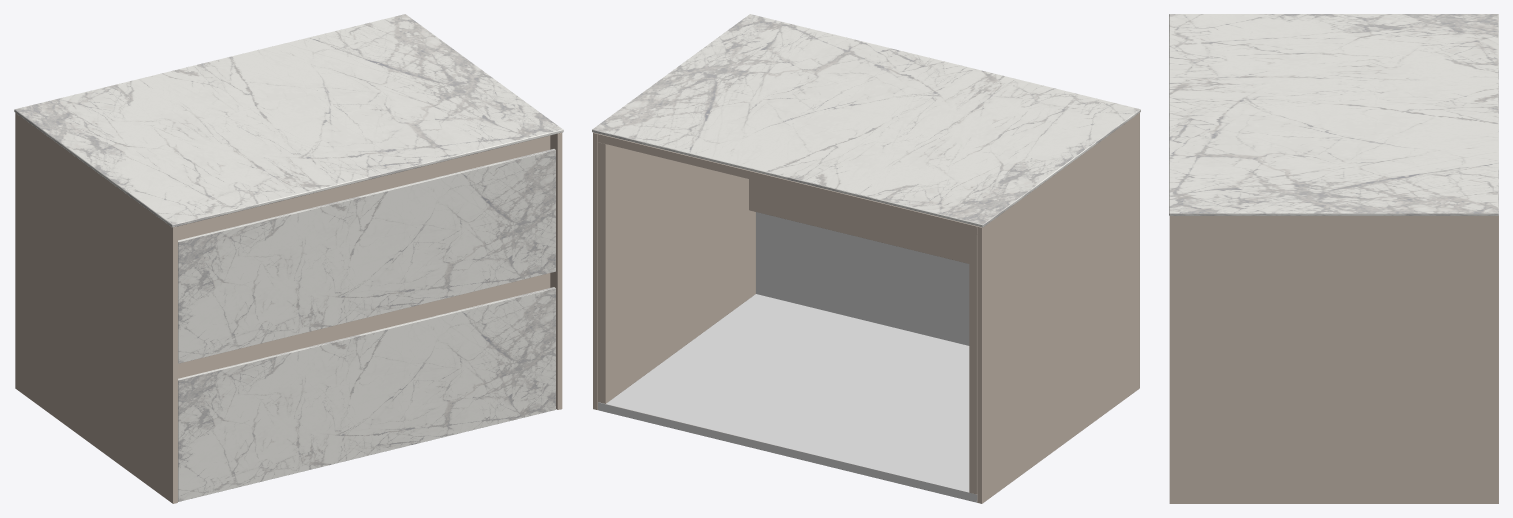
The picture shows the model from 3 angles, left to right: view 1: azimuth 30°, elevation 25°; view 2: azimuth 150°, elevation 25°; view 3: azimuth 270°, elevation 25°; orthographic projection. The views are drawn at different scales.
Visible parts, largest first — view 1: EL04; view 2: EL04; view 3: EL04.
Part boxes in pixels (x1,y1,x2,y2): EL04: (14,14,563,503); EL04: (592,14,1140,503); EL04: (1169,14,1498,503).
Size of the model in its own units: 0.8 by 0.546 by 0.56.
Materials: 4 (1 with a texture image).
